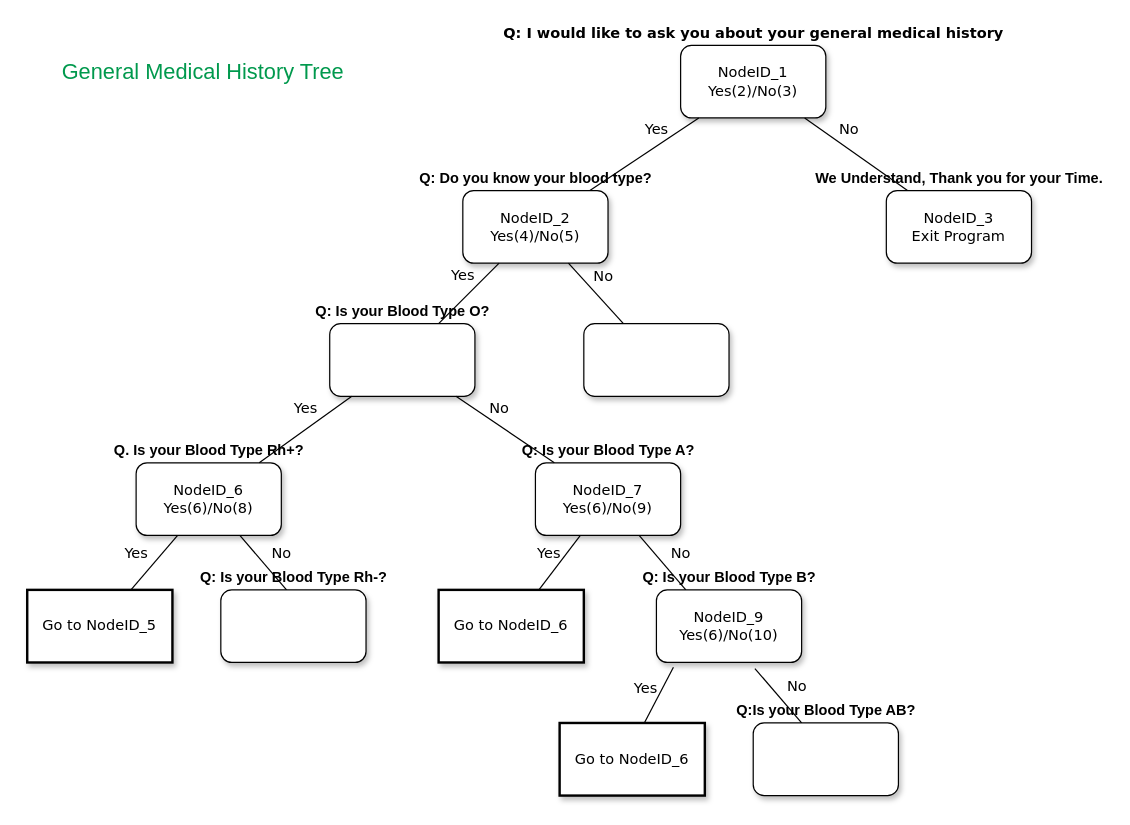
The diagram is 1130 pixels wide and 825 high, and some of its shapes have lost their labels. The shapes that lost their labels are listed below. From the top down, each one's centre as x and y in pixels, then its label:
the point at 403,361: NodeID_4 Yes(6)/No(7)
the point at 657,361: NodeID_5 Go to Martial Status
the point at 294,627: NodeID_8 Yes(5)/No(5) Go to NodeID_5
the point at 826,760: NodeID_10 Yes(6)/No(5)
